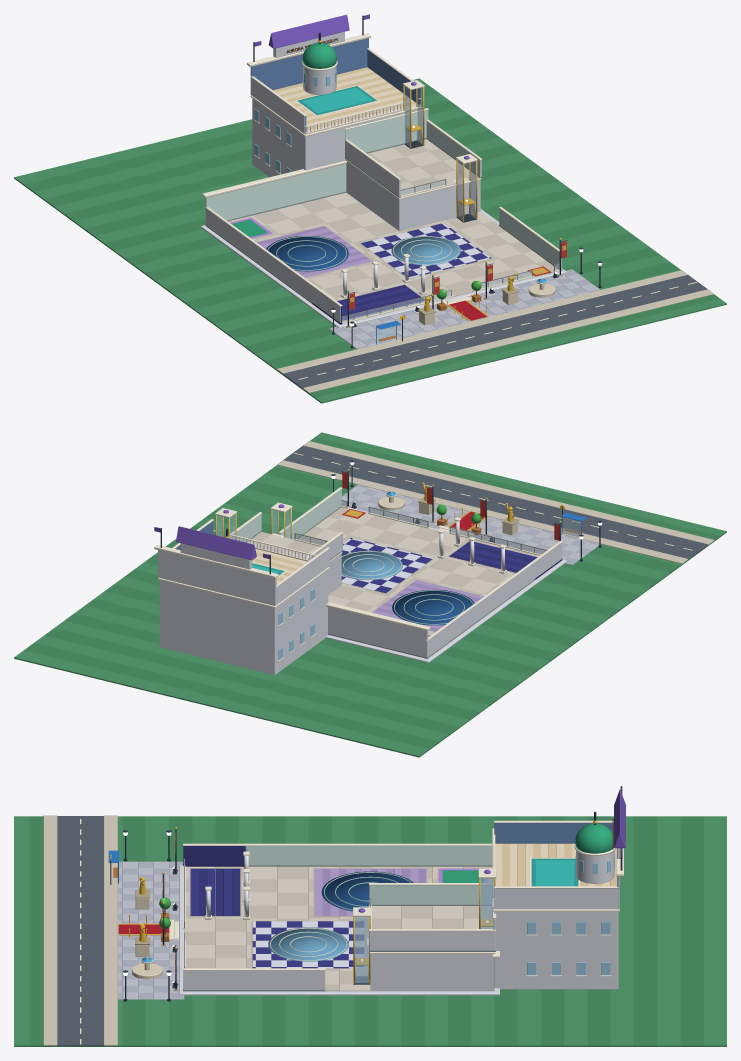
The model's file is shell.glb.
3 views of the same model, one above another, from view 1: azimuth 30°, elevation 25°; view 2: azimuth 150°, elevation 25°; view 3: azimuth 270°, elevation 25° (orthographic). The views are drawn at different scales.
Parts seen in each view (by area): view 1: grounds, building, floor_aurora_deck, floor_floor_1, crown, lift_floor_1, grand_2, lift_aurora_deck, dome, grand_4, grand_3; view 2: grounds, building, floor_aurora_deck, crown, floor_floor_1, grand_2, grand_4, lift_floor_1, lift_aurora_deck; view 3: grounds, building, floor_aurora_deck, floor_floor_1, crown, lift_floor_1, dome, lift_aurora_deck, grand_4, grand_3, grand_2.
Boxes of the visible parts, x1,y1,x2,y2 form: grounds: (14,78,726,403); building: (200,164,566,327); floor_aurora_deck: (250,38,422,177); floor_floor_1: (344,108,482,231); crown: (202,14,371,197); lift_floor_1: (453,154,477,222); grand_2: (345,238,567,328); lift_aurora_deck: (402,80,424,148); dome: (302,42,337,68); grand_4: (418,273,519,325); grand_3: (352,272,558,327); grounds: (14,432,726,757); building: (279,487,566,662); floor_aurora_deck: (158,519,329,674); crown: (154,526,430,631); floor_floor_1: (228,512,343,594); grand_2: (341,469,562,558); grand_4: (418,482,519,535); lift_floor_1: (269,502,292,538); lift_aurora_deck: (215,508,237,539); grounds: (14,815,726,1046); building: (169,843,499,995); floor_aurora_deck: (493,820,619,989); floor_floor_1: (368,883,496,991); crown: (492,786,625,958); lift_floor_1: (353,907,370,984); dome: (575,823,613,853); lift_aurora_deck: (478,868,496,928); grand_4: (135,877,150,956); grand_3: (118,867,177,988); grand_2: (159,827,178,991).
Size of the model in its own units: 35 by 10.53 by 46.
